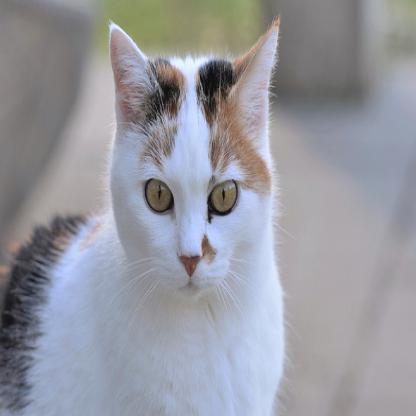cat: (1, 19, 285, 415)
